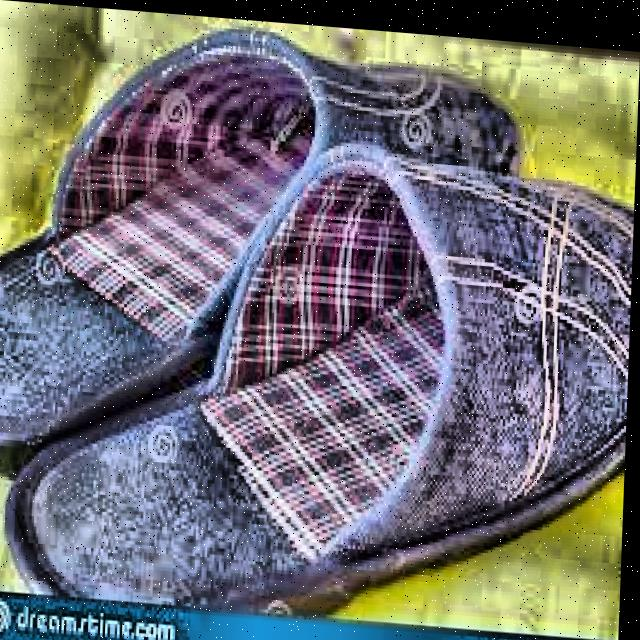shoes: (0, 2, 640, 640)
